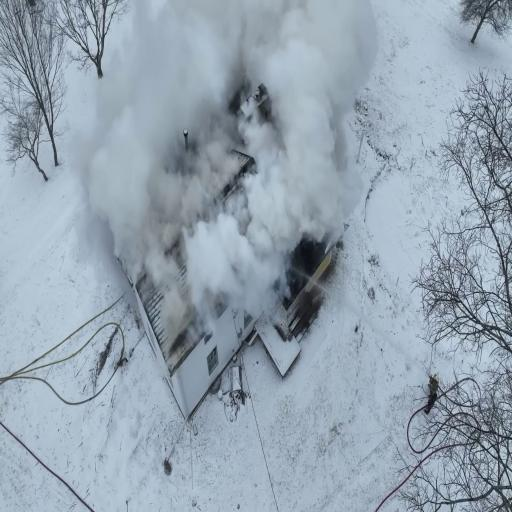smoke: (258, 44, 338, 245)
